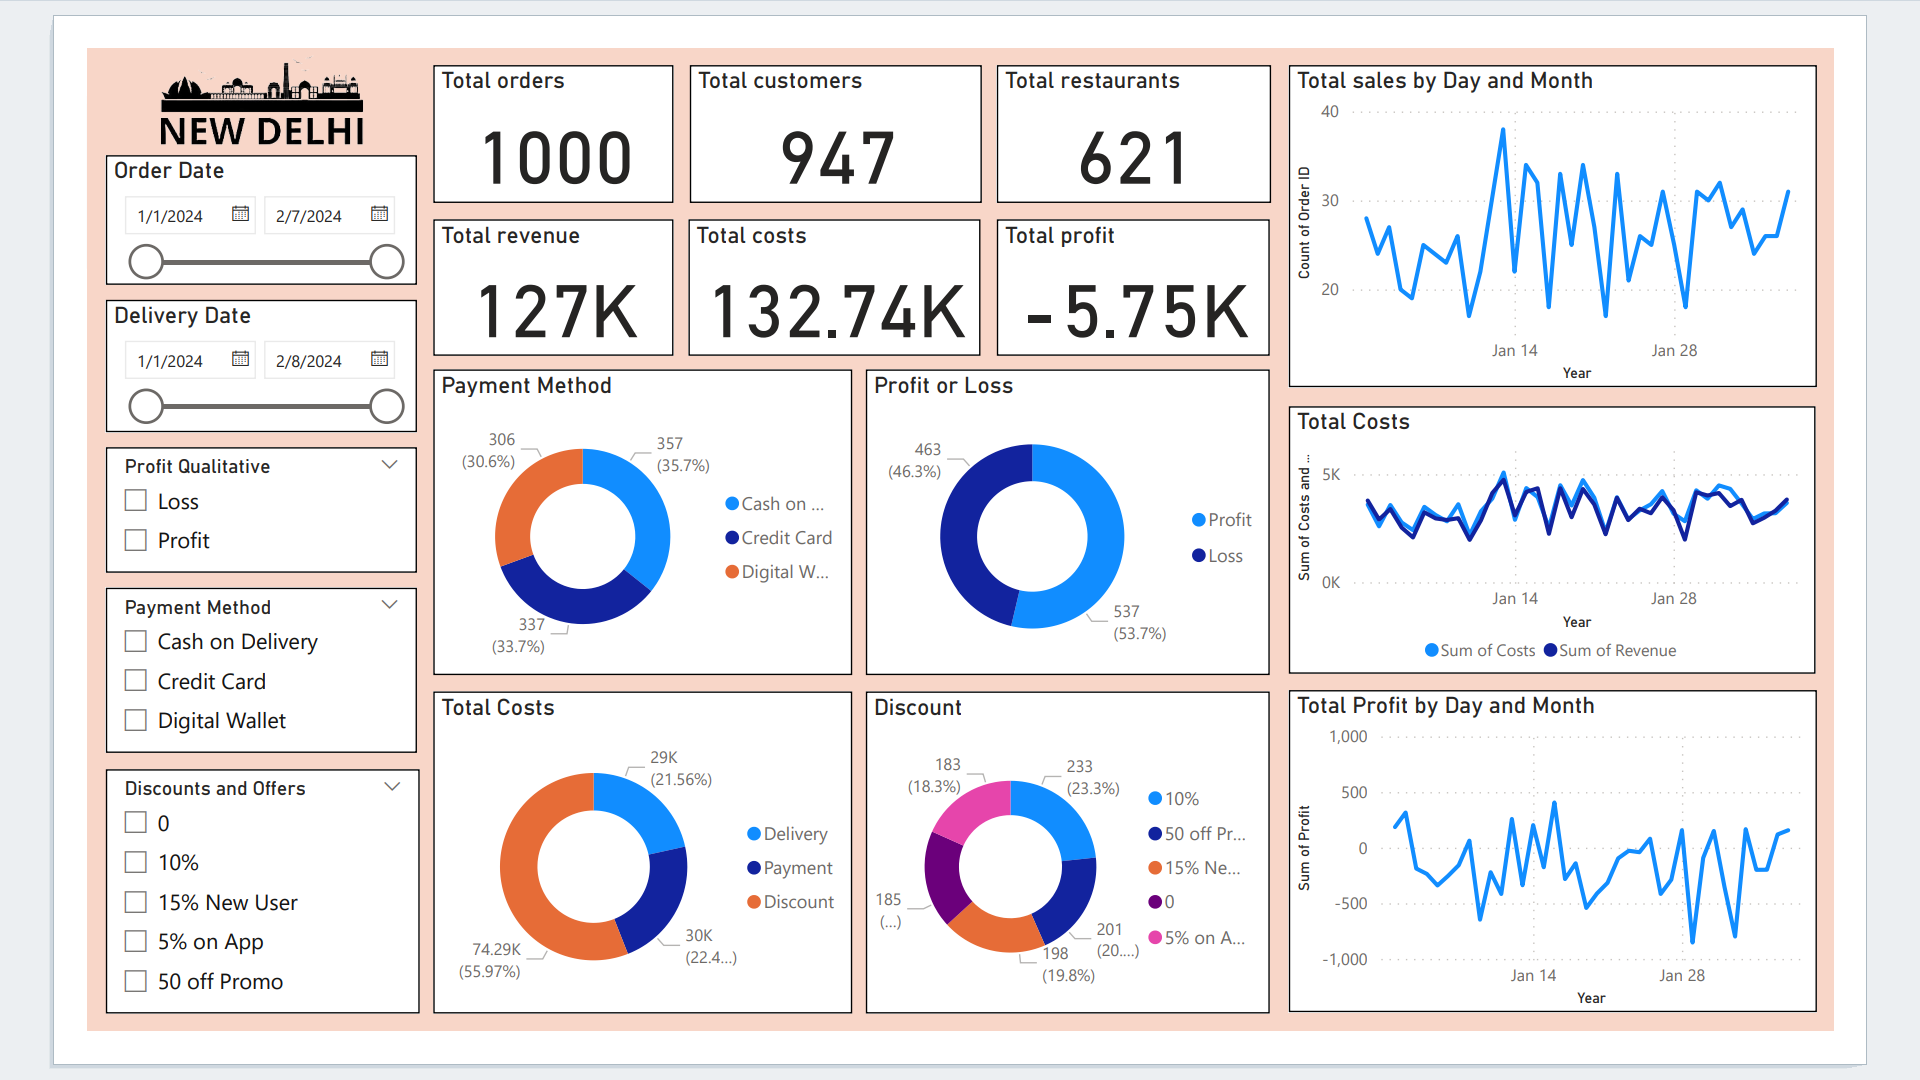

This screenshot's page, from the dashboard's own definition file:
{"tool":"powerbi","page":{"name":"Page 1","canvas":[1280,720],"ordinal":0},"visuals":[{"type":"slicer","title":"Total orders","fields":{"Values":["food_orders_new_delhi_cleaned.Payment Method"]},"box":[13.6,394.6,228.6,121.1],"z":0},{"type":"slicer","title":"Delivery Date","fields":{"Values":["food_orders_new_delhi_cleaned.Delivery Date and Time"]},"box":[13.6,184.1,228.6,96.6],"z":1000},{"type":"slicer","title":"Order Date","fields":{"Values":["food_orders_new_delhi_cleaned.Order Date and Time"]},"box":[13.6,77.6,228.6,95.2],"z":2000},{"type":"slicer","title":"Total orders","fields":{"Values":["food_orders_new_delhi_cleaned.Discounts and Offers"]},"box":[13.6,527.9,229.9,179.6],"z":3000},{"type":"card","title":"Total orders","fields":{"Values":["CountNonNull(food_orders_new_delhi_cleaned.Order ID)"]},"box":[254.4,12.2,175.5,100.7],"z":4000},{"type":"card","title":"Total customers","fields":{"Values":["Count(food_orders_new_delhi_cleaned.Customer ID)"]},"box":[442.2,12.2,213.6,100.7],"z":5000},{"type":"card","title":"Total restaurants","fields":{"Values":["Count(food_orders_new_delhi_cleaned.Restaurant ID)"]},"box":[666.7,12.2,201.4,100.7],"z":6000},{"type":"donutChart","title":"Payment Method","fields":{"Y":["CountNonNull(food_orders_new_delhi_cleaned.Order ID)"],"Category":["food_orders_new_delhi_cleaned.Payment Method"]},"box":[254.4,235.4,306.1,223.1],"z":7000},{"type":"donutChart","title":"Discount","fields":{"Y":["CountNonNull(food_orders_new_delhi_cleaned.Order ID)"],"Category":["food_orders_new_delhi_cleaned.Discounts and Offers"]},"box":[571.4,470.7,295.2,236.7],"z":8000},{"type":"card","title":"Total revenue","fields":{"Values":["Sum(food_orders_new_delhi_cleaned.Commission Fee)"]},"box":[254.4,124.8,175.5,100.7],"z":9000},{"type":"card","title":"Total costs","fields":{"Values":["Sum(food_orders_new_delhi_cleaned.Costs)"]},"box":[441.5,124.8,213.6,100.7],"z":10000},{"type":"card","title":"Total profit","fields":{"Values":["Sum(food_orders_new_delhi_cleaned.Profit)"]},"box":[666.7,124.8,200,100.7],"z":11000},{"type":"lineChart","title":"Total Costs","fields":{"Category":["food_orders_new_delhi_cleaned.Order Date and Time.Variation.Date Hierarchy.Year","food_orders_new_delhi_cleaned.Order Date and Time.Variation.Date Hierarchy.Quarter","food_orders_new_delhi_cleaned.Order Date and Time.Variation.Date Hierarchy.Month","food_orders_new_delhi_cleaned.Order Date and Time.Variation.Date Hierarchy.Day"],"Y":["Sum(food_orders_new_delhi_cleaned.Costs)","Sum(food_orders_new_delhi_cleaned.Revenue)"]},"box":[880.9,262.5,386.4,195.7],"z":12000},{"type":"lineChart","title":"Total sales by Day and Month","fields":{"Category":["food_orders_new_delhi_cleaned.Order Date and Time.Variation.Date Hierarchy.Year","food_orders_new_delhi_cleaned.Order Date and Time.Variation.Date Hierarchy.Quarter","food_orders_new_delhi_cleaned.Order Date and Time.Variation.Date Hierarchy.Month","food_orders_new_delhi_cleaned.Order Date and Time.Variation.Date Hierarchy.Day"],"Y":["CountNonNull(food_orders_new_delhi_cleaned.Order ID)"]},"box":[880.5,12,387,236],"z":13000},{"type":"slicer","title":"Total orders","fields":{"Values":["food_orders_new_delhi_cleaned.Profit Qualitative"]},"box":[13.6,291.8,228.6,92.5],"z":14000},{"type":"lineChart","title":"Total Profit by Day and Month","fields":{"Category":["food_orders_new_delhi_cleaned.Order Date and Time.Variation.Date Hierarchy.Year","food_orders_new_delhi_cleaned.Order Date and Time.Variation.Date Hierarchy.Quarter","food_orders_new_delhi_cleaned.Order Date and Time.Variation.Date Hierarchy.Month","food_orders_new_delhi_cleaned.Order Date and Time.Variation.Date Hierarchy.Day"],"Y":["Sum(food_orders_new_delhi_cleaned.Profit)"]},"box":[880.5,470.3,387,236],"z":15000},{"type":"donutChart","title":"Total Costs","fields":{"Y":["Sum(food_orders_new_delhi_cleaned.Delivery Fee)","Sum(food_orders_new_delhi_cleaned.Payment Processing Fee)","Sum(food_orders_new_delhi_cleaned.Discount Amount)"]},"box":[254.4,470.7,306.1,236.7],"z":16000},{"type":"image","box":[13.6,0,228.6,77.6],"z":17000},{"type":"donutChart","title":"Profit or Loss","fields":{"Y":["CountNonNull(food_orders_new_delhi_cleaned.Order ID)"],"Category":["food_orders_new_delhi_cleaned.Profit Qualitative"]},"box":[571.4,235.4,295.2,223.1],"z":18000}]}

Visuals, with their boxes in screenshot pixels (x1, y1, x2, y2), scaled from the page's 1280x720 canvas onto the 1920x1080 screenshot:
"Total orders" slicer: {"x1": 20, "y1": 592, "x2": 363, "y2": 774}
"Delivery Date" slicer: {"x1": 20, "y1": 276, "x2": 363, "y2": 421}
"Order Date" slicer: {"x1": 20, "y1": 116, "x2": 363, "y2": 259}
"Total orders" slicer: {"x1": 20, "y1": 792, "x2": 365, "y2": 1061}
"Total orders" card: {"x1": 382, "y1": 18, "x2": 645, "y2": 169}
"Total customers" card: {"x1": 663, "y1": 18, "x2": 984, "y2": 169}
"Total restaurants" card: {"x1": 1000, "y1": 18, "x2": 1302, "y2": 169}
"Payment Method" donutChart: {"x1": 382, "y1": 353, "x2": 841, "y2": 688}
"Discount" donutChart: {"x1": 857, "y1": 706, "x2": 1300, "y2": 1061}
"Total revenue" card: {"x1": 382, "y1": 187, "x2": 645, "y2": 338}
"Total costs" card: {"x1": 662, "y1": 187, "x2": 983, "y2": 338}
"Total profit" card: {"x1": 1000, "y1": 187, "x2": 1300, "y2": 338}
"Total Costs" lineChart: {"x1": 1321, "y1": 394, "x2": 1901, "y2": 687}
"Total sales by Day and Month" lineChart: {"x1": 1321, "y1": 18, "x2": 1901, "y2": 372}
"Total orders" slicer: {"x1": 20, "y1": 438, "x2": 363, "y2": 576}
"Total Profit by Day and Month" lineChart: {"x1": 1321, "y1": 705, "x2": 1901, "y2": 1059}
"Total Costs" donutChart: {"x1": 382, "y1": 706, "x2": 841, "y2": 1061}
image: {"x1": 20, "y1": 0, "x2": 363, "y2": 116}
"Profit or Loss" donutChart: {"x1": 857, "y1": 353, "x2": 1300, "y2": 688}
